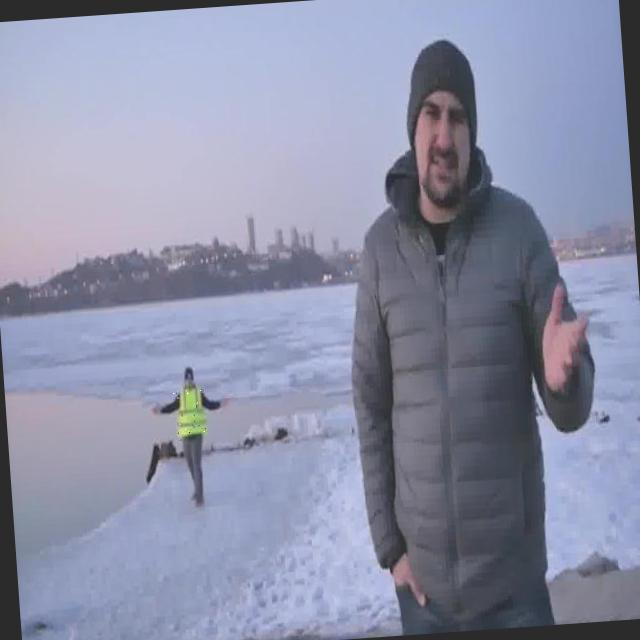no-gloves: (502, 269, 608, 402)
no-helmet: (360, 11, 539, 228)
no-vest: (343, 174, 580, 612)
vest: (172, 380, 207, 440)
